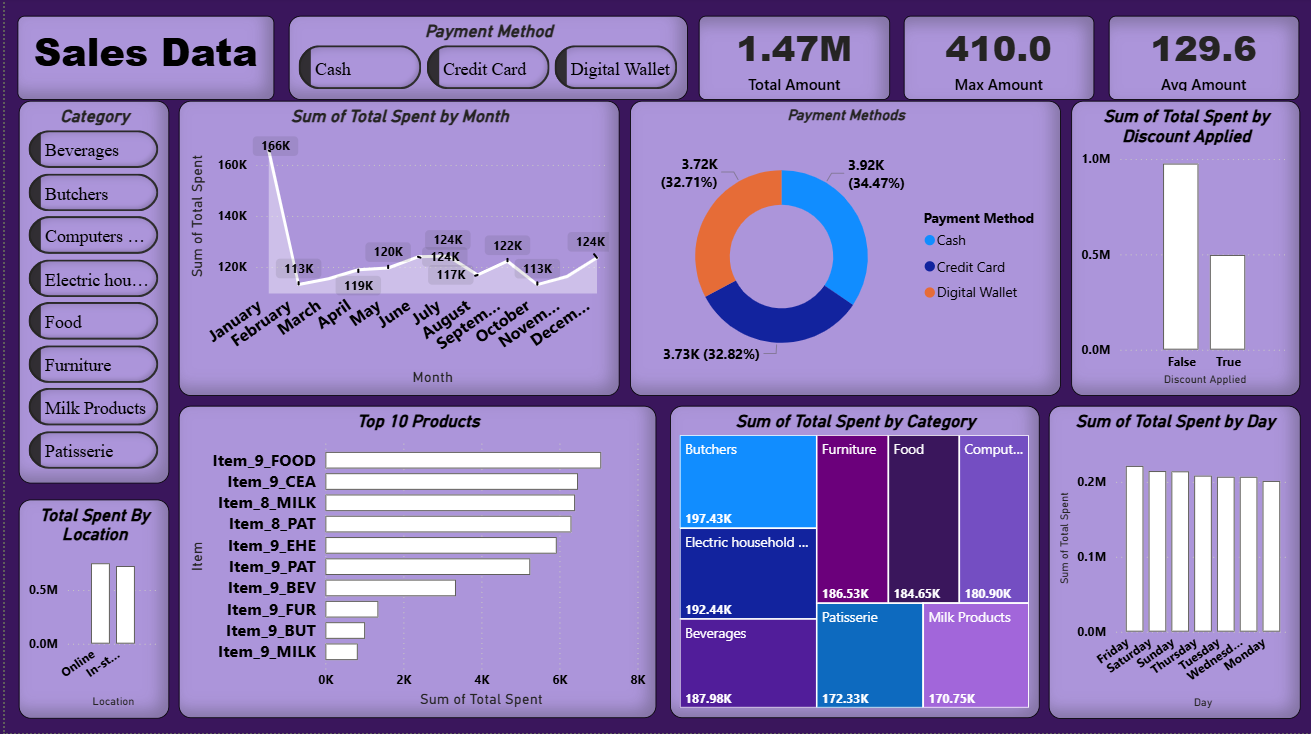

Layout of this report page (visuals, bound fields, positions):
{"tool":"powerbi","page":{"name":"Page 1","canvas":[1280,720],"ordinal":0},"visuals":[{"type":"textbox","box":[12.5,18.8,251.2,82.5],"z":0},{"type":"card","fields":{"Values":["Sum(cleaned_store_sales.Total Spent)"]},"box":[678.8,18.8,187.5,82.5],"z":1000},{"type":"card","fields":{"Values":["Max(cleaned_store_sales.Total Spent)"]},"box":[878.8,18.8,186.2,82.5],"z":2000},{"type":"card","fields":{"Values":["Avg(cleaned_store_sales.Total Spent)"]},"box":[1080,18.8,186.2,82.5],"z":3000},{"type":"advancedSlicerVisual","fields":{"Values":["cleaned_store_sales.Category"]},"box":[12.9,101.4,147.1,374.3],"z":4000},{"type":"advancedSlicerVisual","fields":{"Values":["cleaned_store_sales.Payment Method"]},"box":[277.5,18.8,390,82.5],"z":5000},{"type":"lineChart","fields":{"Category":["cleaned_store_sales.Transaction Date.Variation.Date Hierarchy.Year","cleaned_store_sales.Transaction Date.Variation.Date Hierarchy.Month","cleaned_store_sales.Transaction Date.Variation.Date Hierarchy.Day"],"Y":["Sum(cleaned_store_sales.Total Spent)"]},"box":[170,101.2,431.2,288.8],"z":6000},{"type":"clusteredBarChart","title":"Top 10 Products","fields":{"Category":["cleaned_store_sales.Item"],"Y":["Sum(cleaned_store_sales.Total Spent)"]},"box":[170,400,467.1,305.7],"z":7000},{"type":"donutChart","title":"Payment Methods","fields":{"Category":["cleaned_store_sales.Payment Method"],"Y":["Count(cleaned_store_sales.Transaction ID)"]},"box":[611.2,101.2,421.2,288.8],"z":8000},{"type":"clusteredColumnChart","title":"Total Spent By Location","fields":{"Category":["cleaned_store_sales.Location"],"Y":["Sum(cleaned_store_sales.Total Spent)"]},"box":[12.9,491.4,147.1,214.3],"z":9000},{"type":"clusteredColumnChart","fields":{"Category":["cleaned_store_sales.Discount Applied"],"Y":["Sum(cleaned_store_sales.Total Spent)"]},"box":[1042.5,101.2,223.8,288.8],"z":10000},{"type":"treemap","fields":{"Values":["Sum(cleaned_store_sales.Total Spent)"],"Group":["cleaned_store_sales.Category"]},"box":[650,400,361.4,305.7],"z":11000},{"type":"clusteredColumnChart","fields":{"Category":["cleaned_store_sales.Day"],"Y":["Sum(cleaned_store_sales.Total Spent)"]},"box":[1021.2,400,246.2,306.2],"z":11001}]}

Visuals, with their boxes in screenshot pixels (x1, y1, x2, y2), scaled from the page's 1280x720 canvas onto the 1311x734 screenshot:
textbox: {"left": 13, "top": 19, "right": 270, "bottom": 103}
card - Sum(cleaned_store_sales.Total Spent): {"left": 695, "top": 19, "right": 887, "bottom": 103}
card - Max(cleaned_store_sales.Total Spent): {"left": 900, "top": 19, "right": 1091, "bottom": 103}
card - Avg(cleaned_store_sales.Total Spent): {"left": 1106, "top": 19, "right": 1297, "bottom": 103}
advancedSlicerVisual - cleaned_store_sales.Category: {"left": 13, "top": 103, "right": 164, "bottom": 485}
advancedSlicerVisual - cleaned_store_sales.Payment Method: {"left": 284, "top": 19, "right": 684, "bottom": 103}
lineChart - cleaned_store_sales.Transaction Date.Variation.Date Hierarchy.Year x cleaned_store_sales.Transaction Date.Variation.Date Hierarchy.Month: {"left": 174, "top": 103, "right": 616, "bottom": 398}
"Top 10 Products" clusteredBarChart: {"left": 174, "top": 408, "right": 653, "bottom": 719}
"Payment Methods" donutChart: {"left": 626, "top": 103, "right": 1057, "bottom": 398}
"Total Spent By Location" clusteredColumnChart: {"left": 13, "top": 501, "right": 164, "bottom": 719}
clusteredColumnChart - cleaned_store_sales.Discount Applied x Sum(cleaned_store_sales.Total Spent): {"left": 1068, "top": 103, "right": 1297, "bottom": 398}
treemap - Sum(cleaned_store_sales.Total Spent) x cleaned_store_sales.Category: {"left": 666, "top": 408, "right": 1036, "bottom": 719}
clusteredColumnChart - cleaned_store_sales.Day x Sum(cleaned_store_sales.Total Spent): {"left": 1046, "top": 408, "right": 1298, "bottom": 720}
